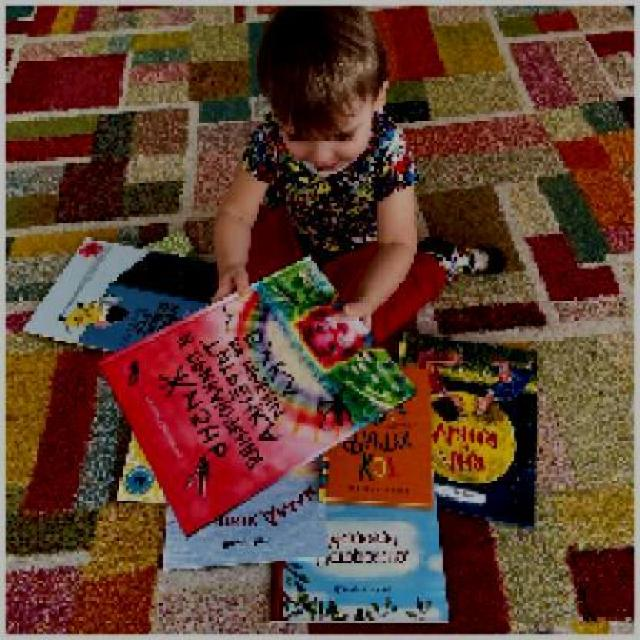child: (212, 7, 508, 336)
